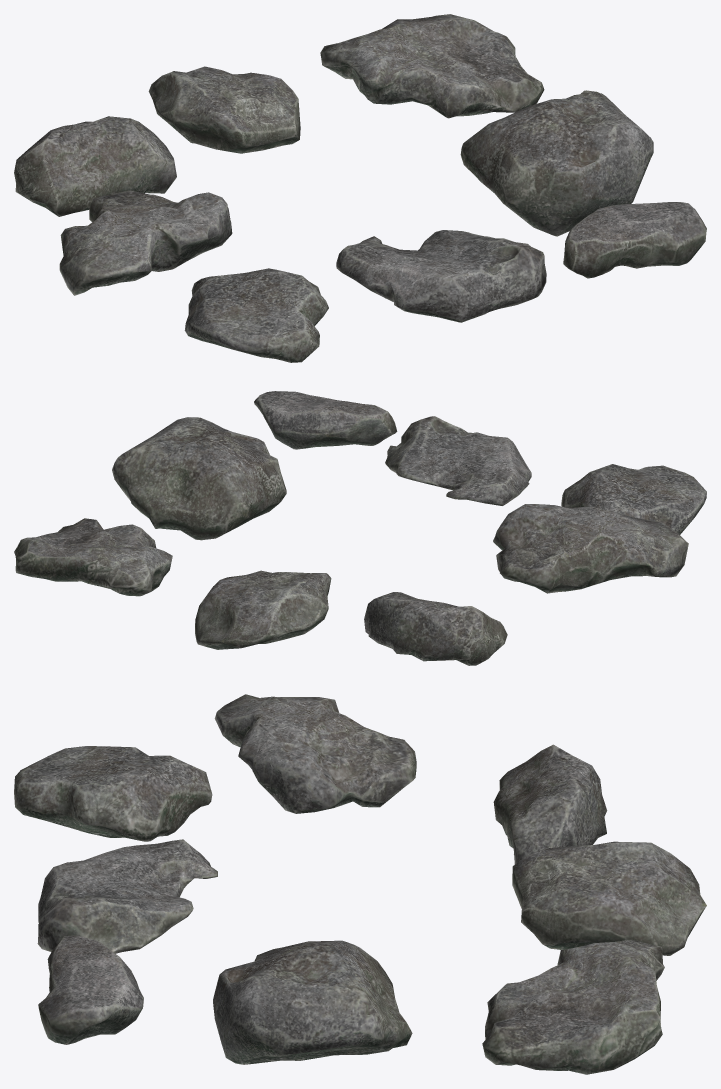
Rendered from rocks.glb.
3 views of the same model, one above another, from view 1: azimuth 30°, elevation 25°; view 2: azimuth 150°, elevation 25°; view 3: azimuth 270°, elevation 25° (orthographic). The views are drawn at different scales.
Parts seen in each view (by area): view 1: Pavementblock.021_4, Pavementblock.032_15, Pavementblock.033_16, Pavementblock.026_9, Pavementblock.031_14, Pavementblock.020_3, Pavementblock.017_0, Pavementblock.025_8; view 2: Pavementblock.021_4, Pavementblock.026_9, Pavementblock.017_0, Pavementblock.033_16, Pavementblock.032_15, Pavementblock.031_14, Pavementblock.020_3, Pavementblock.025_8; view 3: Pavementblock.021_4, Pavementblock.032_15, Pavementblock.017_0, Pavementblock.026_9, Pavementblock.020_3, Pavementblock.033_16, Pavementblock.031_14, Pavementblock.025_8.
Boxes of the visible parts, left/top/right/bottom form: Pavementblock.021_4: left=460, top=90, right=653, bottom=236; Pavementblock.032_15: left=320, top=14, right=544, bottom=118; Pavementblock.033_16: left=336, top=230, right=546, bottom=322; Pavementblock.026_9: left=59, top=190, right=232, bottom=295; Pavementblock.031_14: left=14, top=116, right=176, bottom=216; Pavementblock.020_3: left=184, top=268, right=328, bottom=362; Pavementblock.017_0: left=148, top=66, right=300, bottom=153; Pavementblock.025_8: left=563, top=202, right=706, bottom=278; Pavementblock.021_4: left=112, top=417, right=286, bottom=540; Pavementblock.026_9: left=493, top=504, right=688, bottom=593; Pavementblock.017_0: left=195, top=570, right=331, bottom=649; Pavementblock.033_16: left=385, top=416, right=531, bottom=505; Pavementblock.032_15: left=14, top=518, right=172, bottom=596; Pavementblock.031_14: left=364, top=592, right=507, bottom=665; Pavementblock.020_3: left=561, top=464, right=706, bottom=534; Pavementblock.025_8: left=254, top=391, right=397, bottom=449; Pavementblock.021_4: left=213, top=940, right=412, bottom=1064; Pavementblock.032_15: left=482, top=939, right=664, bottom=1074; Pavementblock.017_0: left=512, top=841, right=706, bottom=955; Pavementblock.026_9: left=214, top=694, right=416, bottom=813; Pavementblock.020_3: left=14, top=746, right=212, bottom=841; Pavementblock.033_16: left=37, top=839, right=217, bottom=953; Pavementblock.031_14: left=493, top=744, right=607, bottom=864; Pavementblock.025_8: left=38, top=935, right=143, bottom=1044.
Bounding box in the file's own units: 1.24 × 0.1979 × 1.12.
1 material, 1 textured.
